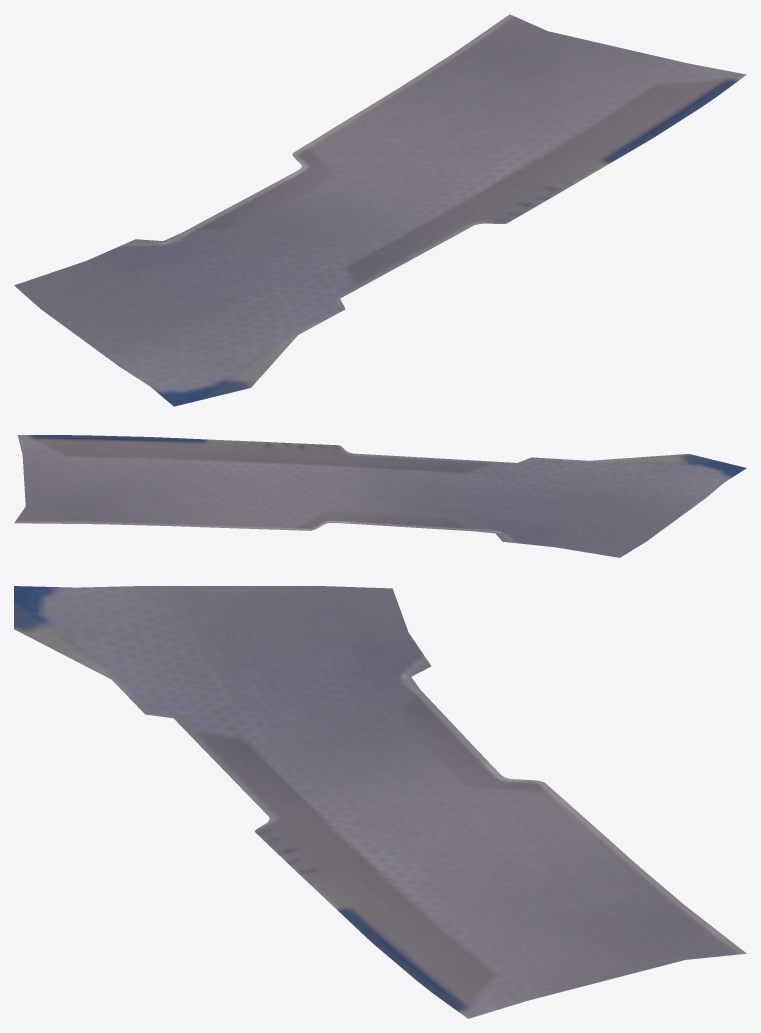
Rendered from pref_fx_redslowareaeffect_beta03_roada_02_lv0.fbx.
The picture shows the model from 3 angles, top to bottom: view 1: azimuth 30°, elevation 25°; view 2: azimuth 150°, elevation 25°; view 3: azimuth 270°, elevation 25°; orthographic projection. The views are drawn at different scales.
Visible parts, largest first — view 1: color (1); view 2: color (1); view 3: color (1).
Part boxes in pixels (left/top/right/bottom): color (1): left=14, top=14, right=746, bottom=406; color (1): left=14, top=435, right=746, bottom=557; color (1): left=14, top=586, right=746, bottom=1018.
Bounding box in the file's own units: 23.89 × 5.68e-06 × 17.1.
